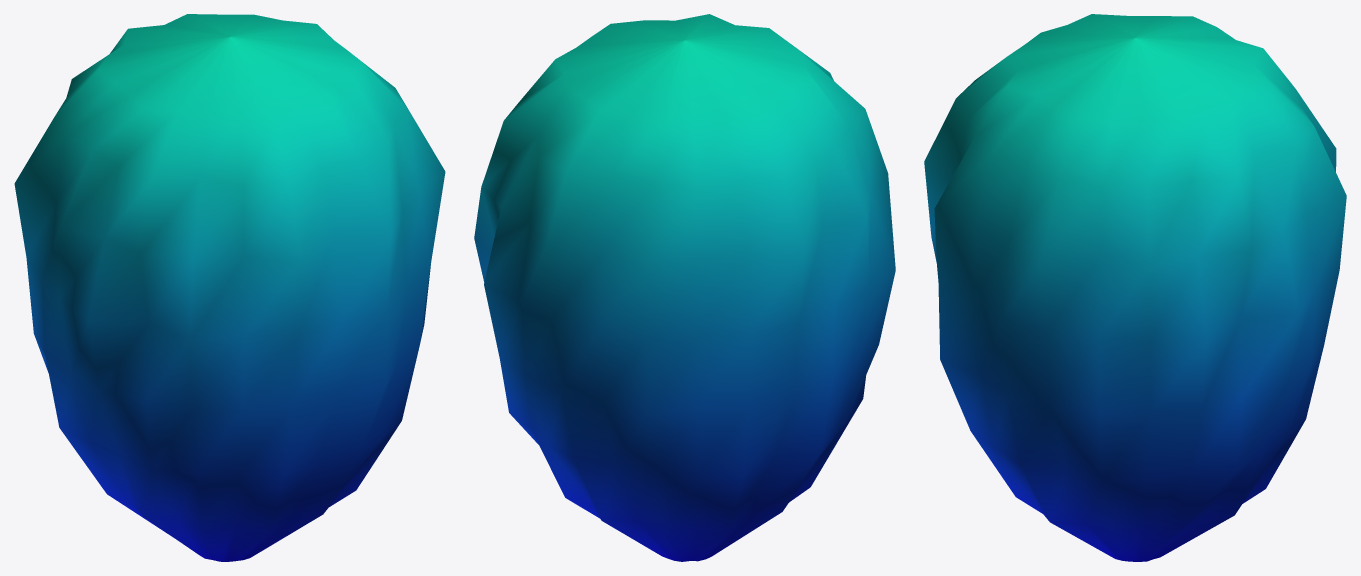
Rendered from Cacactus1.fbx.
3 views of the same model, side by side, from view 1: azimuth 30°, elevation 25°; view 2: azimuth 150°, elevation 25°; view 3: azimuth 270°, elevation 25° (orthographic).
Visible parts, largest first — view 1: Cacactus1_LOD0; view 2: Cacactus1_LOD0; view 3: Cacactus1_LOD0.
Part boxes in pixels (x1,y1,x2,y2): Cacactus1_LOD0: [14, 14, 445, 561]; Cacactus1_LOD0: [474, 14, 895, 561]; Cacactus1_LOD0: [924, 14, 1346, 561].
Size of what is drawn, in the model's own units: 54.4 by 74.89 by 55.93.
